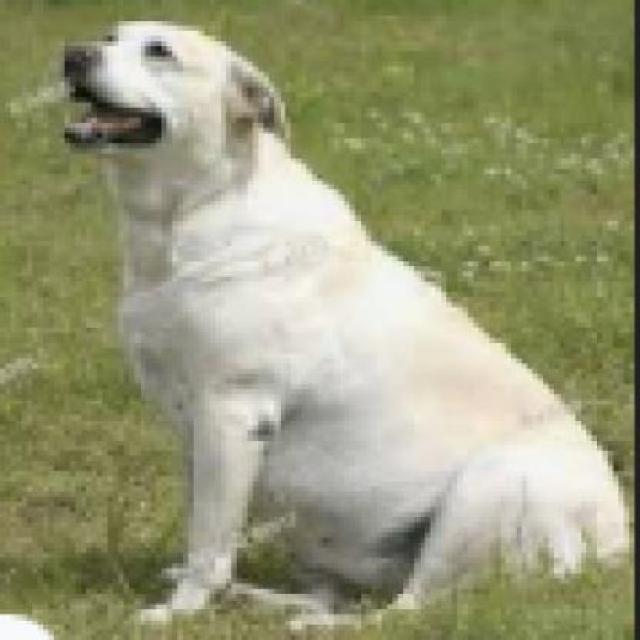Dog: (54, 15, 634, 636)
